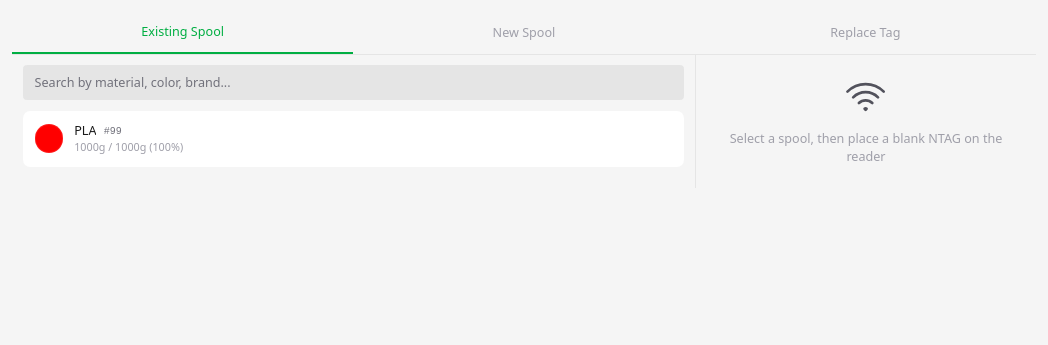
SpoolBuddyWriteTagPage › says Spoolman is unavailable when the server refuses the write for that reason
What coordinates should you click on to do the following:
click the text "PLA"
I would click on:
 (85, 131)
Its box is [74, 122, 96, 140].
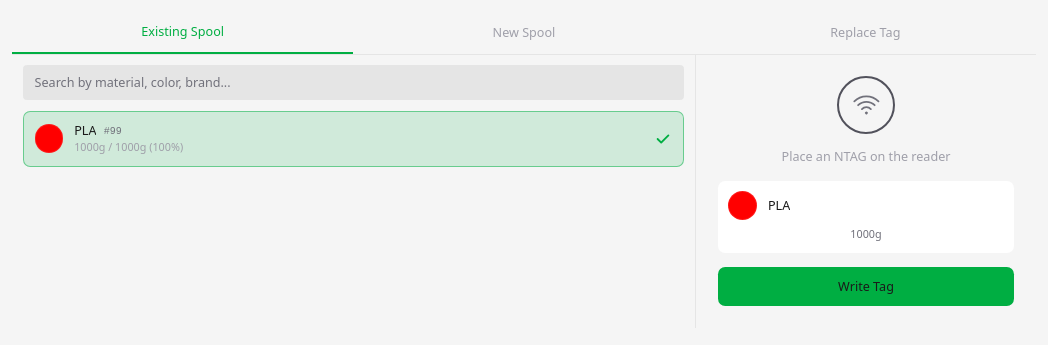
Now the button "Write Tag" is enabled
What coordinates should you click on to do the following:
click the button "Write Tag"
I would click on:
 (866, 287)
Its box is [718, 267, 1014, 306].
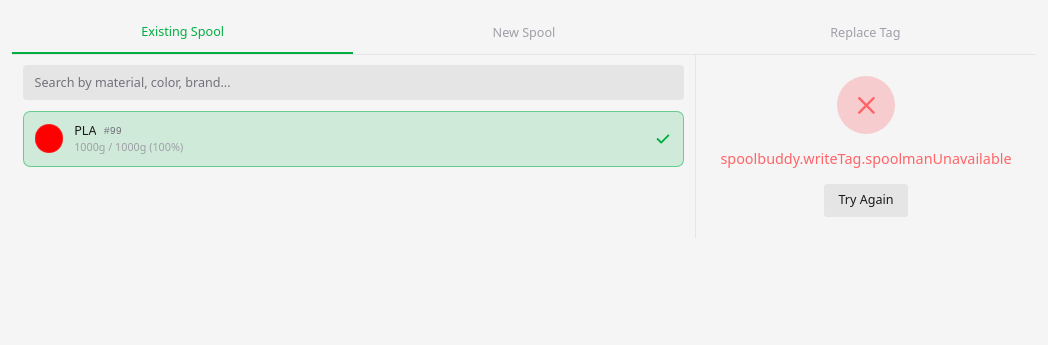
Now the text "spoolbuddy.writeTag.spoolmanUnavailable" is shown, box [720, 148, 1012, 170]
